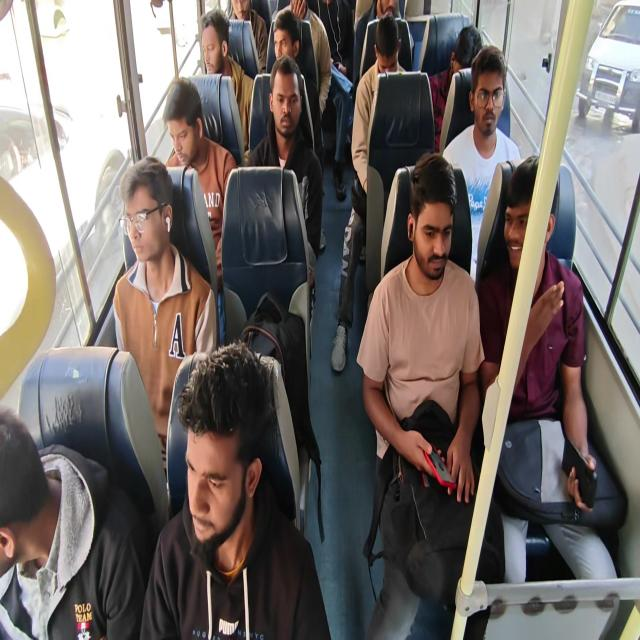person: (356, 151, 505, 638), (477, 155, 620, 586), (139, 340, 331, 639), (112, 155, 218, 486), (0, 405, 146, 639), (331, 13, 408, 373), (441, 44, 522, 280), (246, 54, 324, 260), (163, 77, 237, 285), (270, 2, 330, 176), (307, 0, 355, 200), (201, 9, 254, 150), (428, 24, 482, 153), (353, 0, 401, 80), (226, 0, 268, 74)
